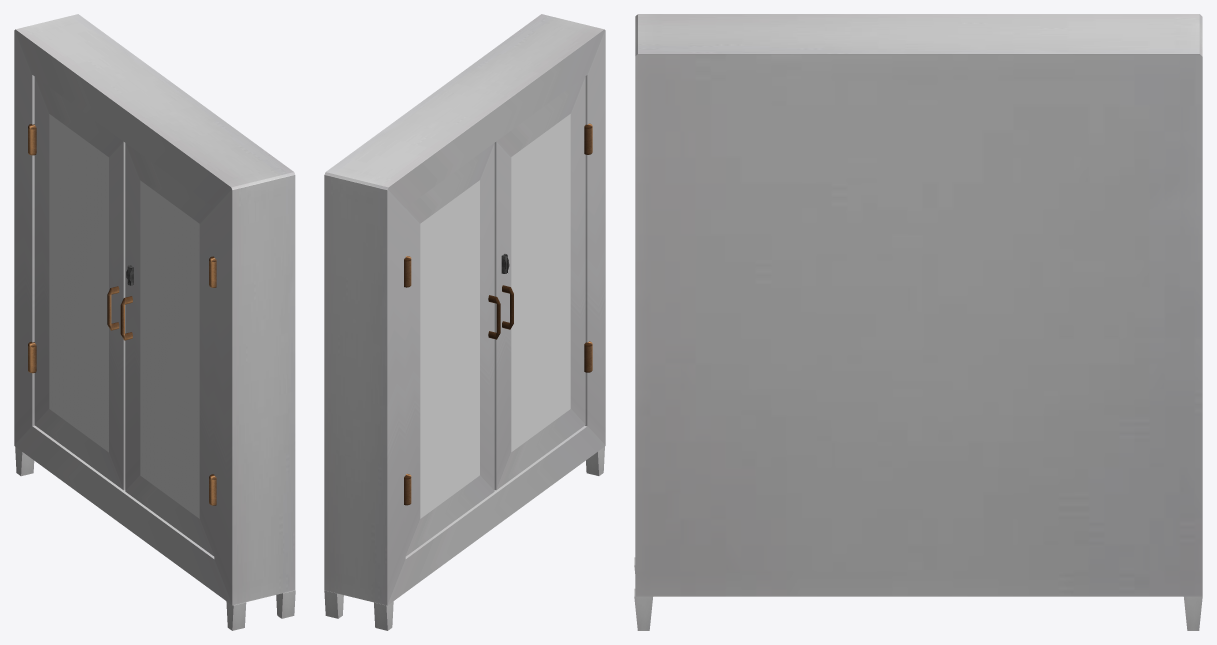
The model's file is medicinelocker.FBX.
3 renders of one model, left to right at view 1: azimuth 30°, elevation 25°; view 2: azimuth 150°, elevation 25°; view 3: azimuth 270°, elevation 25°, orthographic. The views are drawn at different scales.
Visible parts, largest first — view 1: Kaappi, ovet, oikea lasi, vasen lasi, jalat, saranat vasen, saranat oikea; view 2: Kaappi, ovet, vasen lasi, oikea lasi, jalat, saranat oikea, saranat vasen; view 3: Kaappi, jalat.
Part boxes in pixels (box(x1,y1,x2,y2)): Kaappi: box(14, 14, 295, 605); ovet: box(34, 77, 214, 556); oikea lasi: box(140, 180, 199, 518); vasen lasi: box(49, 114, 108, 452); jalat: box(15, 447, 295, 630); saranat vasen: box(28, 124, 36, 373); saranat oikea: box(209, 256, 216, 505); Kaappi: box(324, 14, 605, 605); ovet: box(405, 76, 585, 556); vasen lasi: box(420, 180, 479, 518); oikea lasi: box(511, 114, 570, 451); jalat: box(324, 447, 604, 630); saranat oikea: box(584, 123, 592, 372); saranat vasen: box(404, 256, 411, 505); Kaappi: box(635, 14, 1202, 596); jalat: box(634, 557, 1202, 630).
Bounding box in the file's own units: 13.63 × 79.53 × 71.
Materials: 4 (3 with a texture image).
